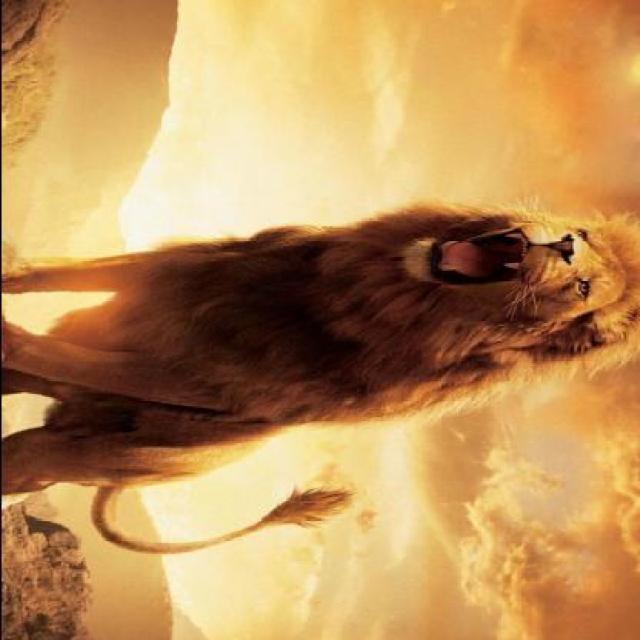Lion: (2, 186, 630, 568)
